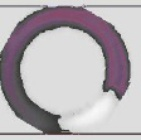ProgressBar: (1, 1, 140, 139)
